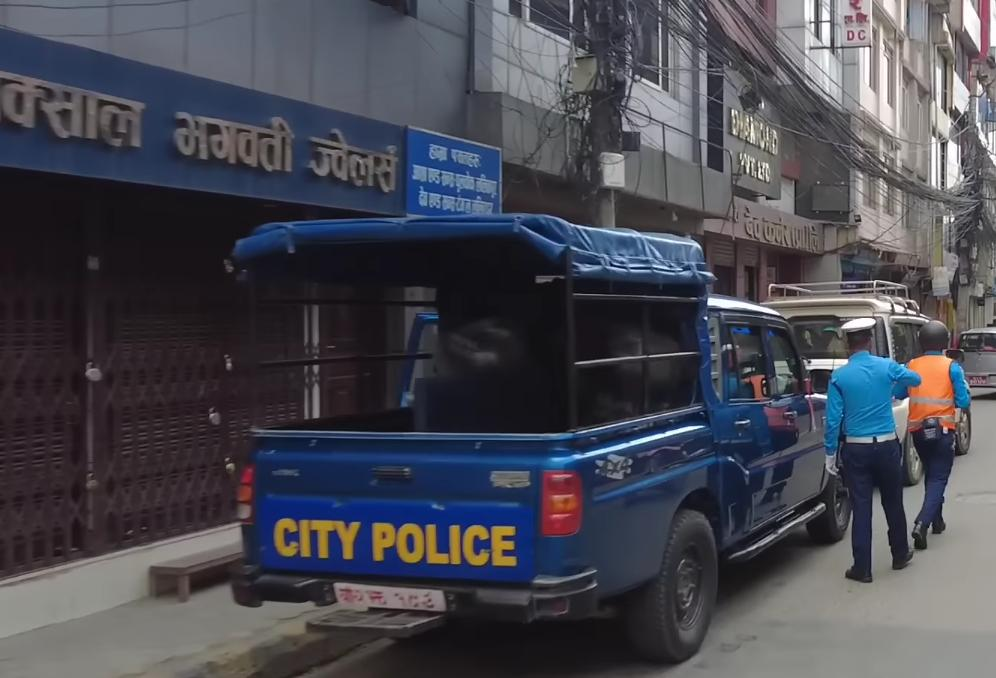police_vehicle: (217, 183, 862, 669)
